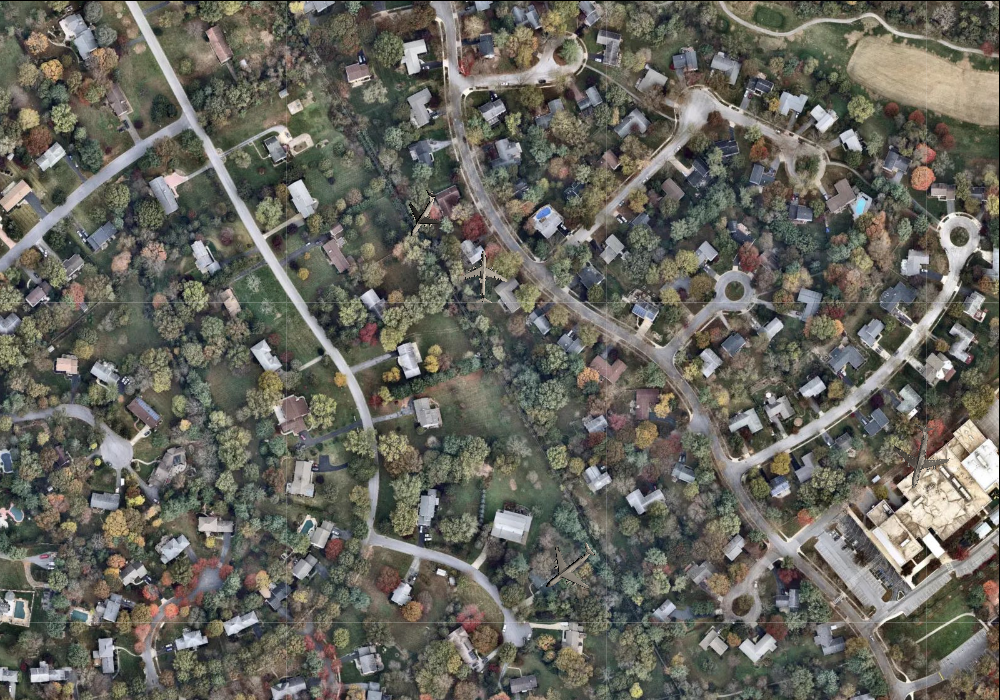plane: (528, 526, 610, 609), (881, 417, 957, 495), (390, 181, 453, 246), (457, 249, 509, 305)
